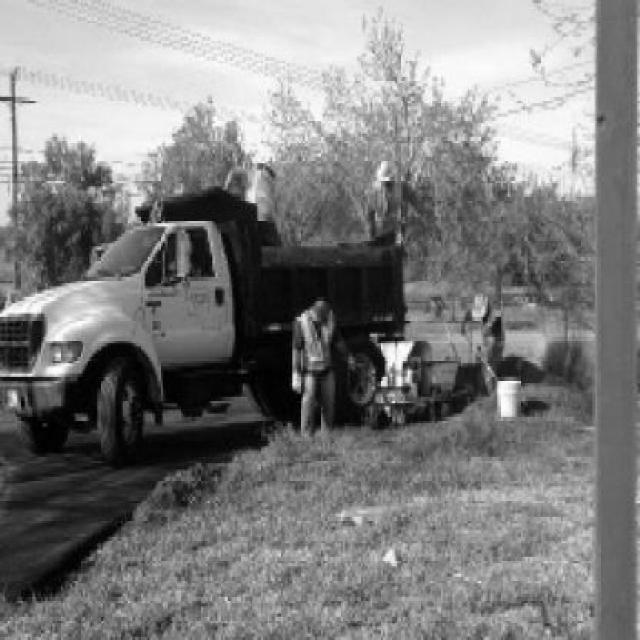Box Truck: (0, 186, 405, 468)
